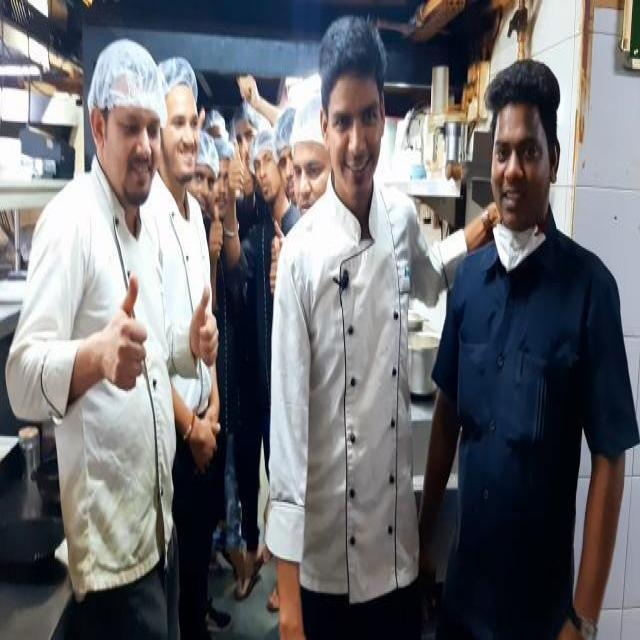bare_hand: (98, 263, 158, 408), (186, 275, 233, 389), (198, 205, 234, 275), (265, 211, 289, 288), (221, 147, 248, 212), (231, 62, 266, 106)
